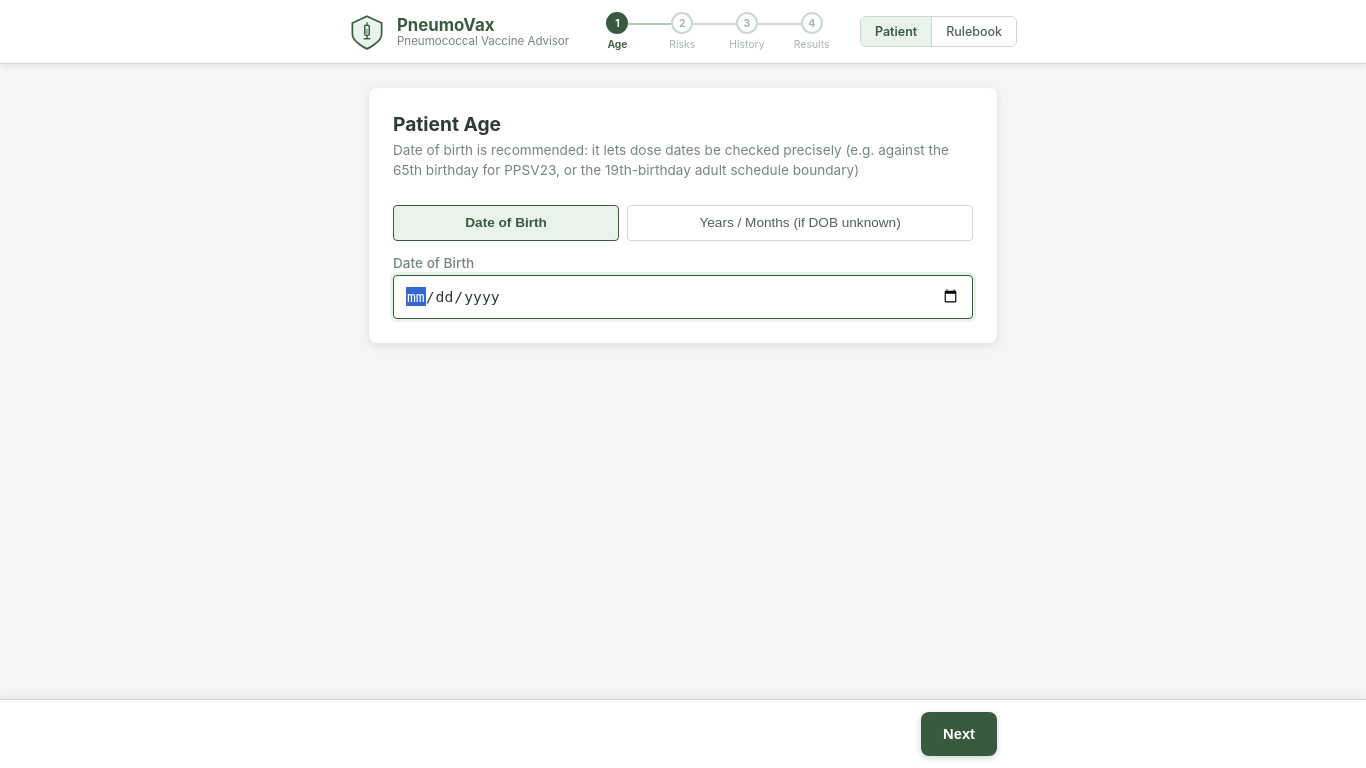
App wizard › advances Age → Risks after entering an age
Click the button "Years / Months (if DOB unknown)".
click(800, 223)  # box [627,205,973,241]
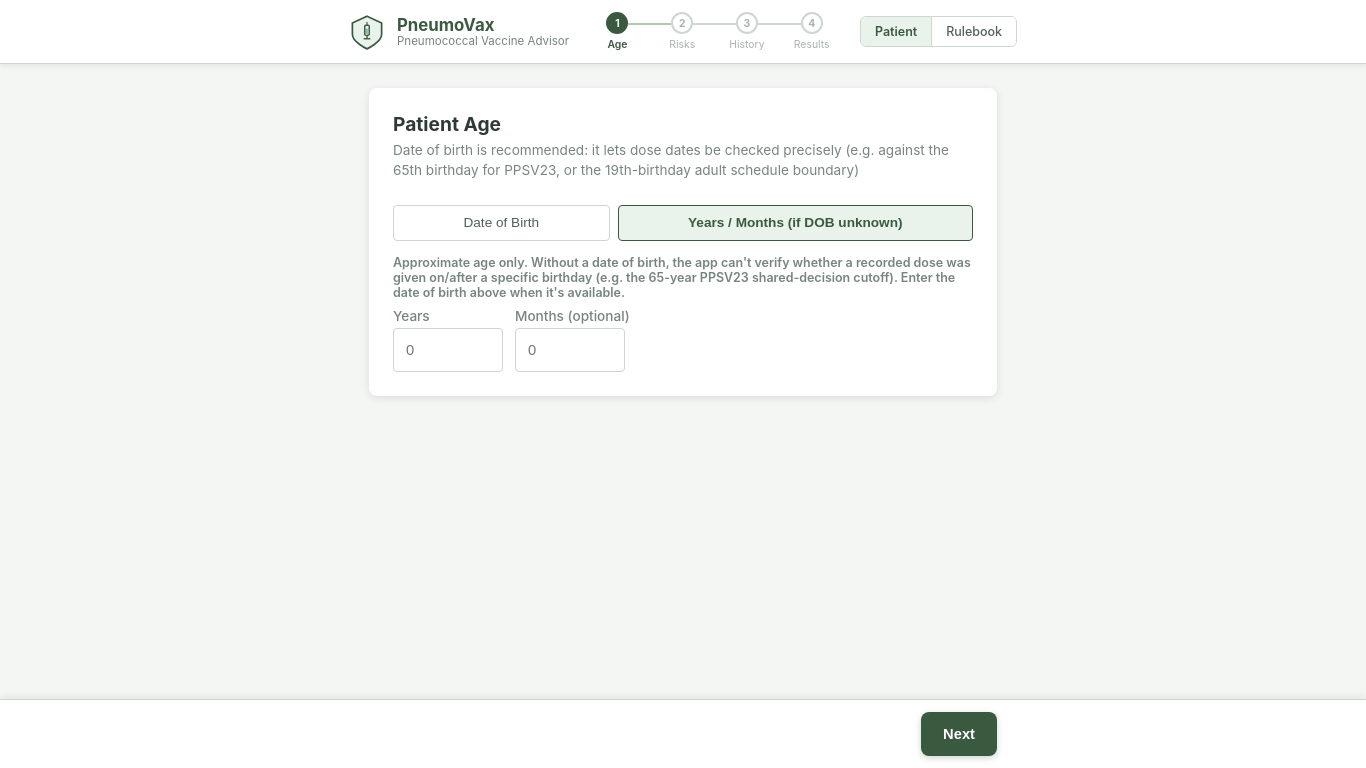
Type "55" into the number field labelled "Years".
click(448, 350); type("55")  # box [393,328,503,372]
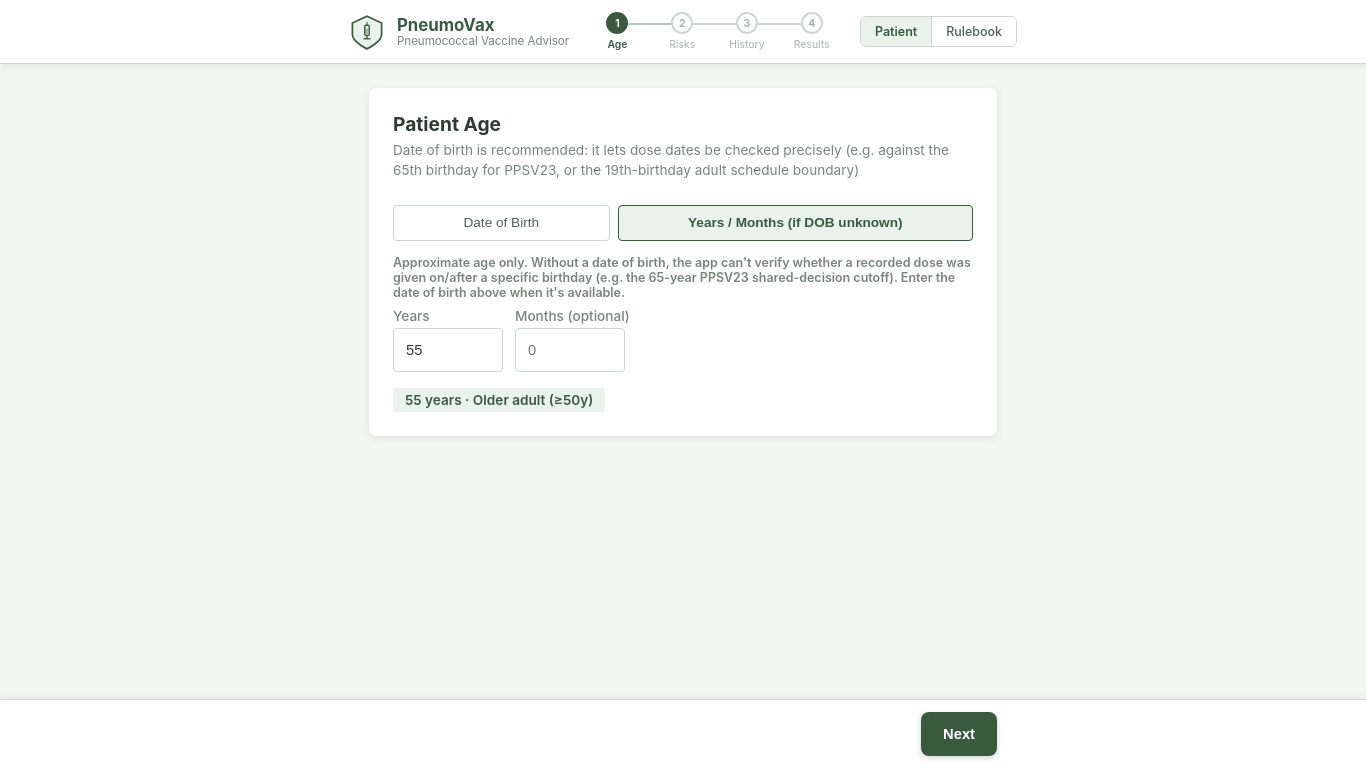
Click the button "Next".
click(959, 734)  # box [921,712,997,756]
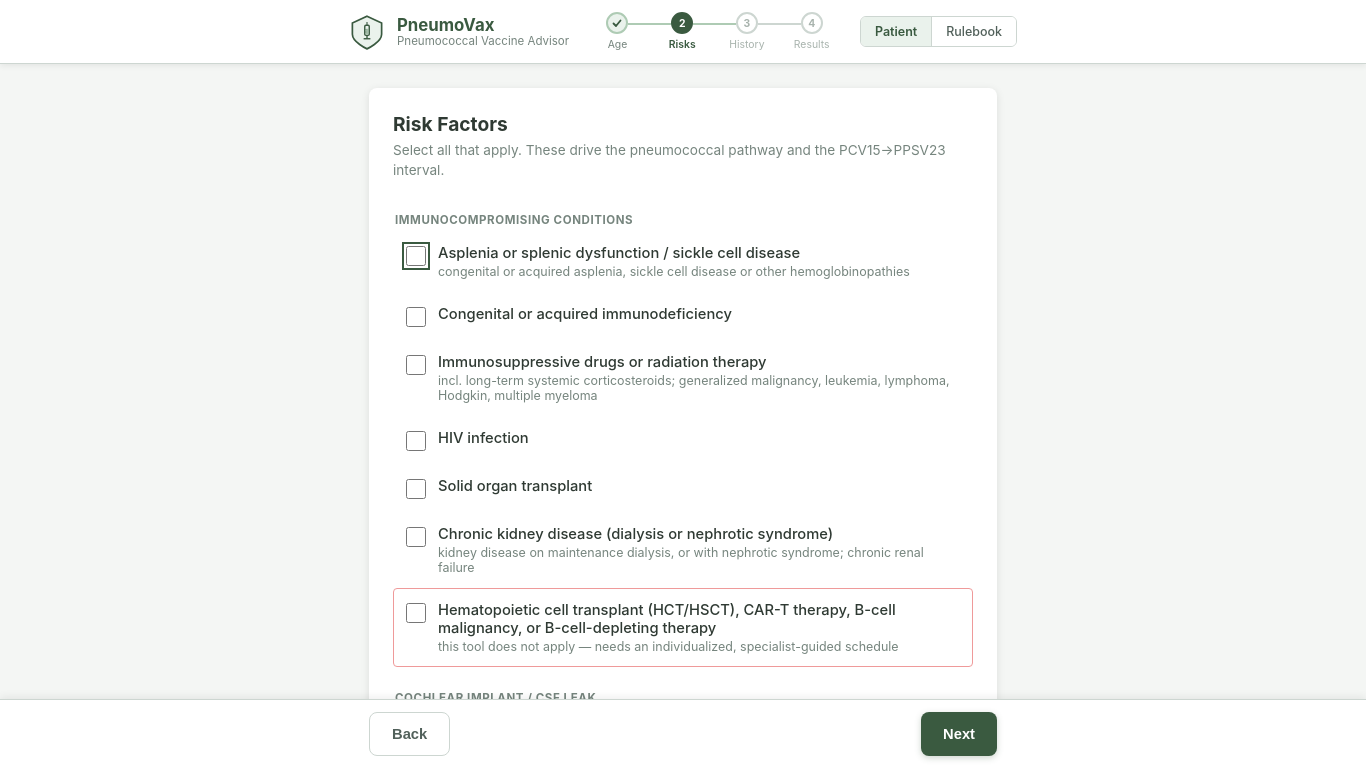
Now the text "Risk Factors" is shown, box [393,112,508,136]
